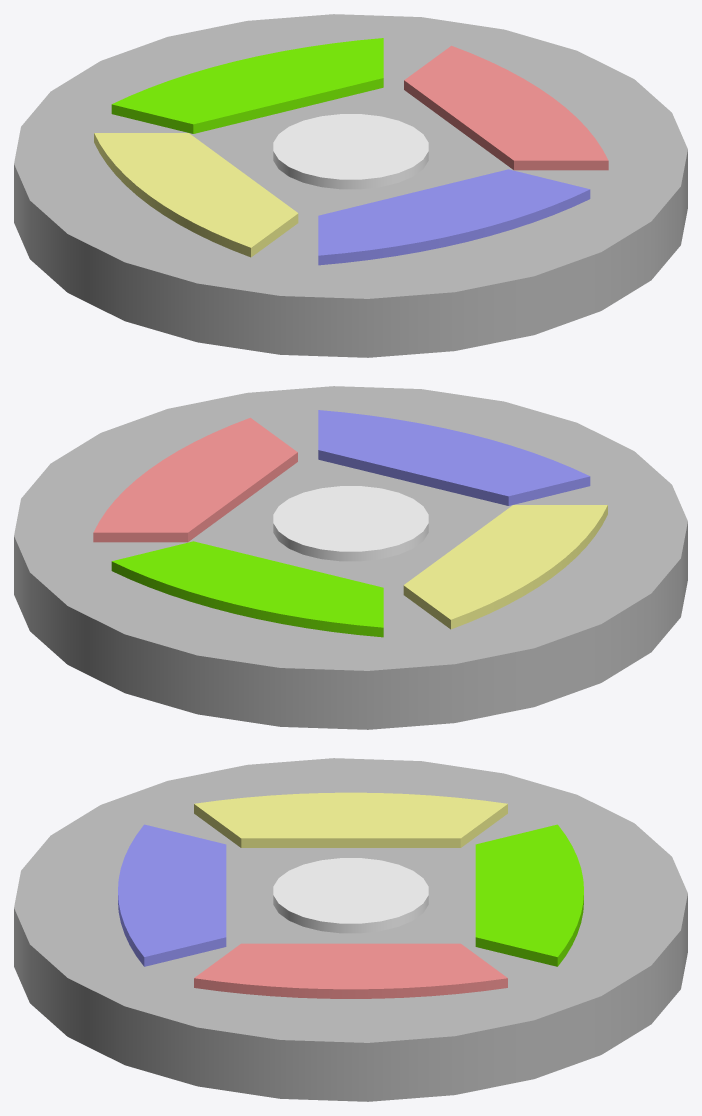
File: full_green.obj
The picture shows the model from 3 angles, top to bottom: view 1: azimuth 30°, elevation 25°; view 2: azimuth 150°, elevation 25°; view 3: azimuth 270°, elevation 25°; orthographic projection.
Visible parts, largest first — view 1: Mesh5 Model, Mesh1 Group1 Model, Mesh3 Group3 Model, Mesh2 Group2 Model, Mesh4 Group4 Model; view 2: Mesh5 Model, Mesh3 Group3 Model, Mesh1 Group1 Model, Mesh2 Group2 Model, Mesh4 Group4 Model; view 3: Mesh5 Model, Mesh2 Group2 Model, Mesh4 Group4 Model, Mesh1 Group1 Model, Mesh3 Group3 Model.
Boxes of the visible parts, bbox=[...] form: Mesh5 Model: bbox=[14, 14, 687, 357]; Mesh1 Group1 Model: bbox=[318, 169, 590, 265]; Mesh3 Group3 Model: bbox=[111, 38, 383, 133]; Mesh2 Group2 Model: bbox=[404, 45, 608, 170]; Mesh4 Group4 Model: bbox=[94, 133, 298, 257]; Mesh5 Model: bbox=[14, 386, 687, 729]; Mesh3 Group3 Model: bbox=[111, 541, 383, 637]; Mesh1 Group1 Model: bbox=[318, 410, 590, 505]; Mesh2 Group2 Model: bbox=[93, 417, 297, 542]; Mesh4 Group4 Model: bbox=[403, 505, 607, 629]; Mesh5 Model: bbox=[14, 758, 687, 1101]; Mesh2 Group2 Model: bbox=[194, 943, 507, 998]; Mesh4 Group4 Model: bbox=[194, 792, 507, 847]; Mesh1 Group1 Model: bbox=[118, 824, 226, 966]; Mesh3 Group3 Model: bbox=[475, 824, 583, 966].
Size of the model in its own units: 183 by 20.5 by 183.
